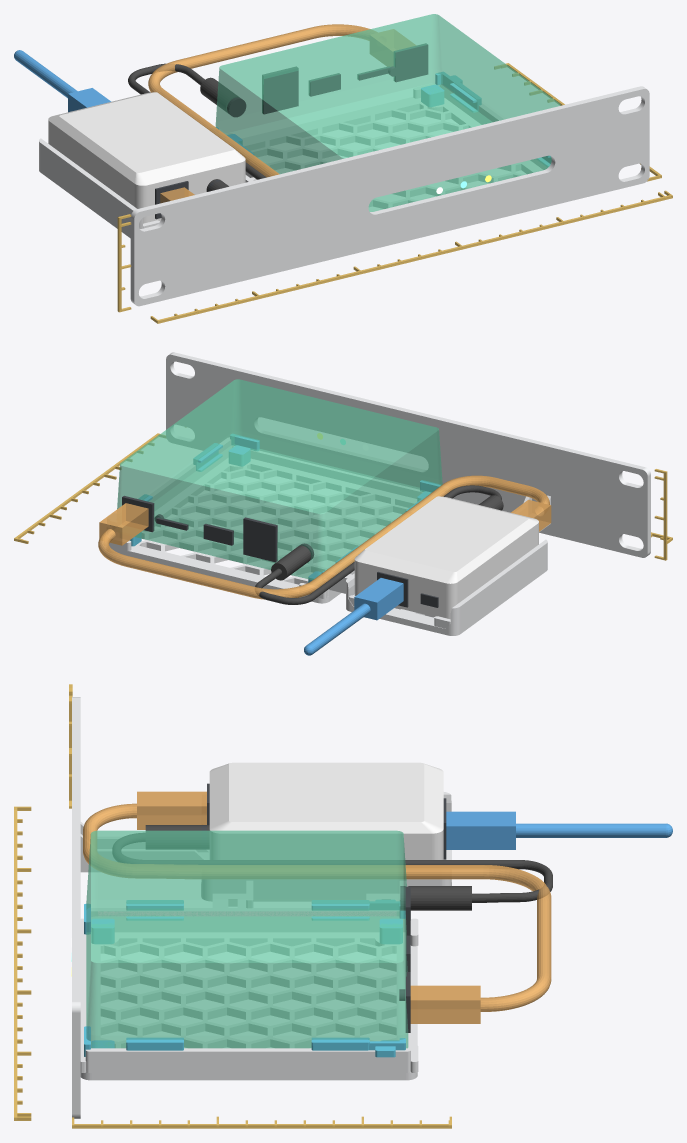
The model's file is home-assistant-green-rack-balanced-no_shutter.glb.
3 views of the same model, one above another, from view 1: azimuth 30°, elevation 25°; view 2: azimuth 150°, elevation 25°; view 3: azimuth 270°, elevation 25° (orthographic). The views are drawn at different scales.
Visible parts, largest first — view 1: White rack mount, Home Assistant Green, TP-Link TL-PD30G-M2, Green tray — standard, Ethernet cable — bend-radius warning, 10 mm dimension rulers, Home Assistant Green connector faces, TP-Link cradle side walls, DC cable, Green retention — segmented rails + rear latch, Incoming PoE cable, Home Assistant logo (+2 smaller); view 2: Home Assistant Green, White rack mount, Green tray — standard, TP-Link TL-PD30G-M2, Ethernet cable — bend-radius warning, Home Assistant Green connector faces, TP-Link cradle side walls, DC cable, Incoming PoE cable, Green retention — segmented rails + rear latch, 10 mm dimension rulers, TP-Link cradle floor (+1 smaller); view 3: Home Assistant Green, Green tray — standard, TP-Link TL-PD30G-M2, Ethernet cable — bend-radius warning, DC cable, White rack mount, Green retention — segmented rails + rear latch, Incoming PoE cable, 10 mm dimension rulers, TP-Link cradle side walls, Home Assistant Green connector faces, TP-Link cradle floor.
Part boxes in pixels (x1=…): White rack mount: x1=130, y1=86, x2=649, y2=306; Home Assistant Green: x1=215, y1=14, x2=560, y2=211; TP-Link TL-PD30G-M2: x1=48, y1=92, x2=245, y2=223; Green tray — standard: x1=226, y1=83, x2=547, y2=208; Ethernet cable — bend-radius warning: x1=148, y1=24, x2=415, y2=203; 10 mm dimension rulers: x1=117, y1=63, x2=672, y2=323; Home Assistant Green connector faces: x1=227, y1=43, x2=428, y2=117; TP-Link cradle side walls: x1=39, y1=138, x2=253, y2=231; DC cable: x1=128, y1=63, x2=266, y2=191; Green retention — segmented rails + rear latch: x1=216, y1=72, x2=551, y2=166; Incoming PoE cable: x1=14, y1=50, x2=110, y2=112; Home Assistant logo: x1=241, y1=206, x2=282, y2=255; Home Assistant Green: x1=117, y1=379, x2=442, y2=580; White rack mount: x1=166, y1=352, x2=650, y2=593; Green tray — standard: x1=109, y1=437, x2=422, y2=603; TP-Link TL-PD30G-M2: x1=354, y1=496, x2=538, y2=619; Ethernet cable — bend-radius warning: x1=98, y1=475, x2=551, y2=599; Home Assistant Green connector faces: x1=122, y1=496, x2=313, y2=562; TP-Link cradle side walls: x1=346, y1=539, x2=547, y2=630; DC cable: x1=255, y1=485, x2=503, y2=604; Incoming PoE cable: x1=304, y1=578, x2=403, y2=655; Green retention — segmented rails + rear latch: x1=129, y1=434, x2=440, y2=582; 10 mm dimension rulers: x1=14, y1=427, x2=672, y2=560; TP-Link cradle floor: x1=346, y1=564, x2=547, y2=635; Home Assistant Green: x1=86, y1=830, x2=408, y2=1048; Green tray — standard: x1=80, y1=908, x2=418, y2=1080; TP-Link TL-PD30G-M2: x1=209, y1=762, x2=443, y2=859; Ethernet cable — bend-radius warning: x1=83, y1=791, x2=551, y2=1023; DC cable: x1=112, y1=825, x2=552, y2=910; White rack mount: x1=72, y1=697, x2=406, y2=1118; Green retention — segmented rails + rear latch: x1=84, y1=900, x2=405, y2=1057; Incoming PoE cable: x1=446, y1=811, x2=672, y2=849; 10 mm dimension rulers: x1=14, y1=684, x2=451, y2=1128; TP-Link cradle side walls: x1=201, y1=792, x2=451, y2=893; Home Assistant Green connector faces: x1=399, y1=886, x2=410, y2=1032; TP-Link cradle floor: x1=201, y1=850, x2=451, y2=901.
Size of what is drawn, in the model's own units: 268 by 44.45 by 227.
